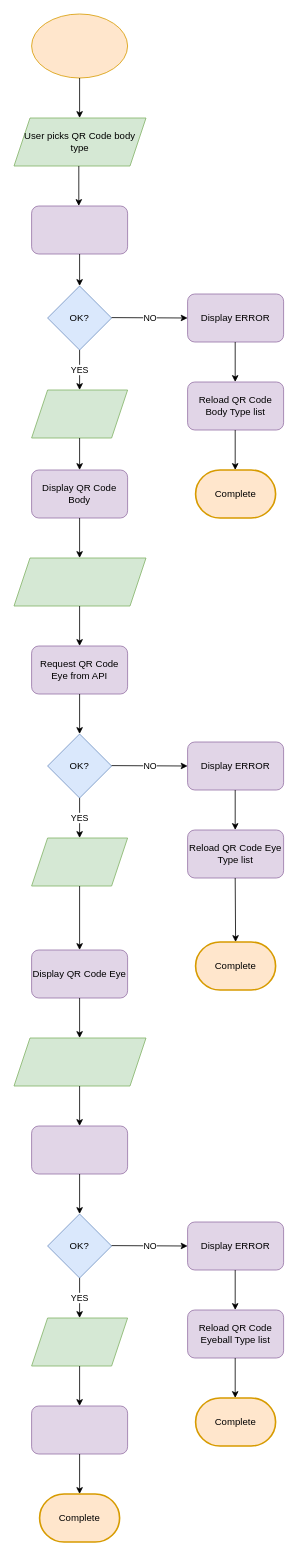
Image size: 298x1557. Some labels were removed from this diagram. The shapes that lost their labels are listed below. From the top down, each one's centre as x and y in pixels, then its label:
At point 79,45: "Start".
At point 79,229: "Request QR Code Body from API".
At point 79,413: "QR Code Body".
At point 79,581: "User picks QR Code eye type".
At point 79,861: "QR Code Eye".
At point 79,1061: "User picks QR Code eyeball type".
At point 79,1149: "Request QR Code Eyeball type from API".
At point 79,1341: "QR Code Eyeball".
At point 79,1429: "Display QR Code Eyeball".
